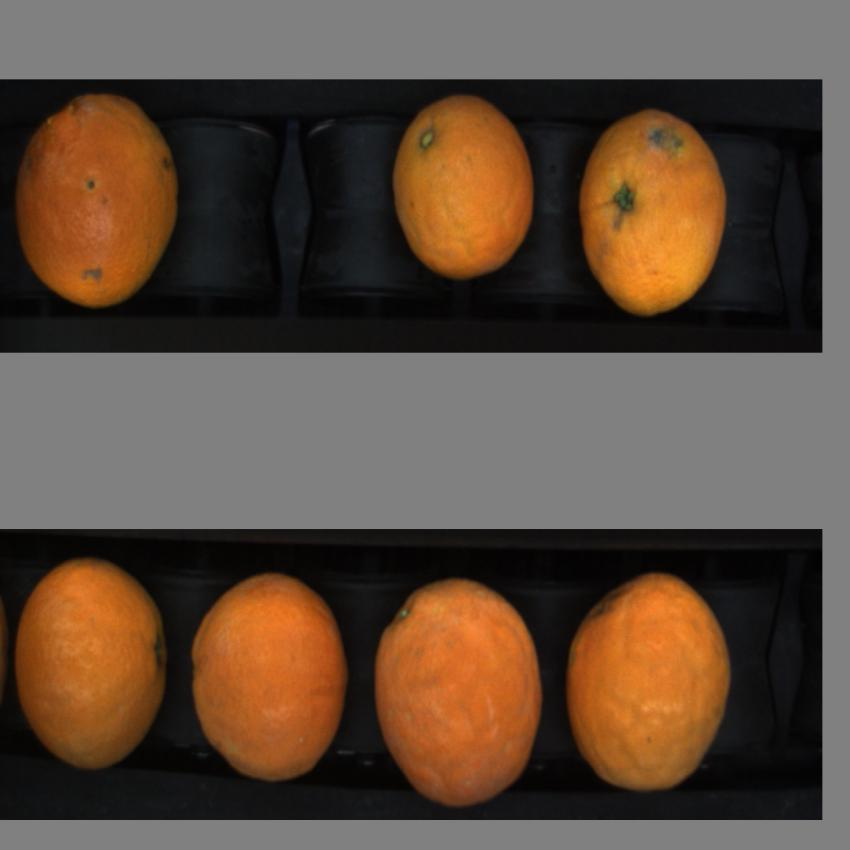Buen estado: (369, 578, 546, 808), (568, 566, 737, 790), (13, 556, 173, 777), (188, 574, 351, 784), (390, 87, 540, 285)
Mal estado: (17, 89, 181, 310), (574, 93, 730, 316)
